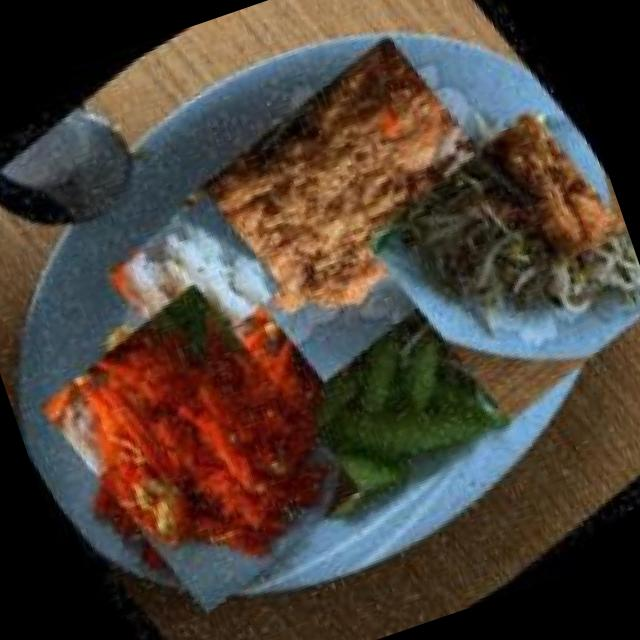carrot_eggs: (2, 247, 400, 640)
fried_chicken: (137, 0, 571, 416)
mung_bean_sprouts: (329, 85, 640, 450)
rice: (85, 173, 301, 390)
